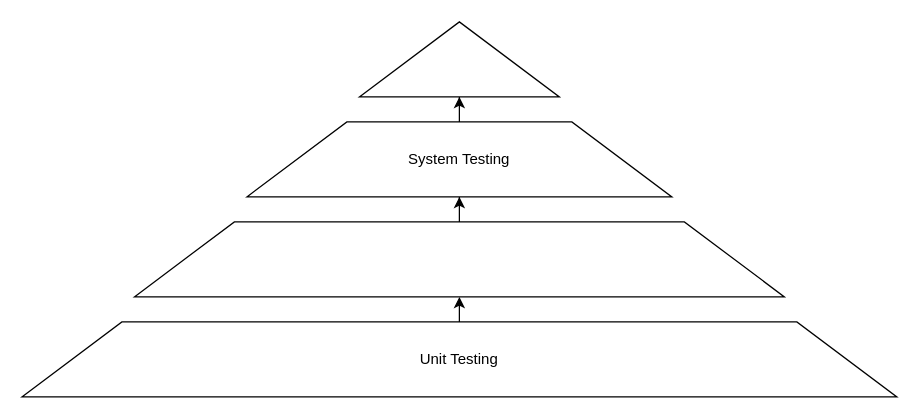
Image size: 919x419. Some labels were removed from this diagram. Each missing label, with the centre of its shape:
"Acceptance Testing" belongs at (458,59).
"Integration Testing" belongs at (458,259).
